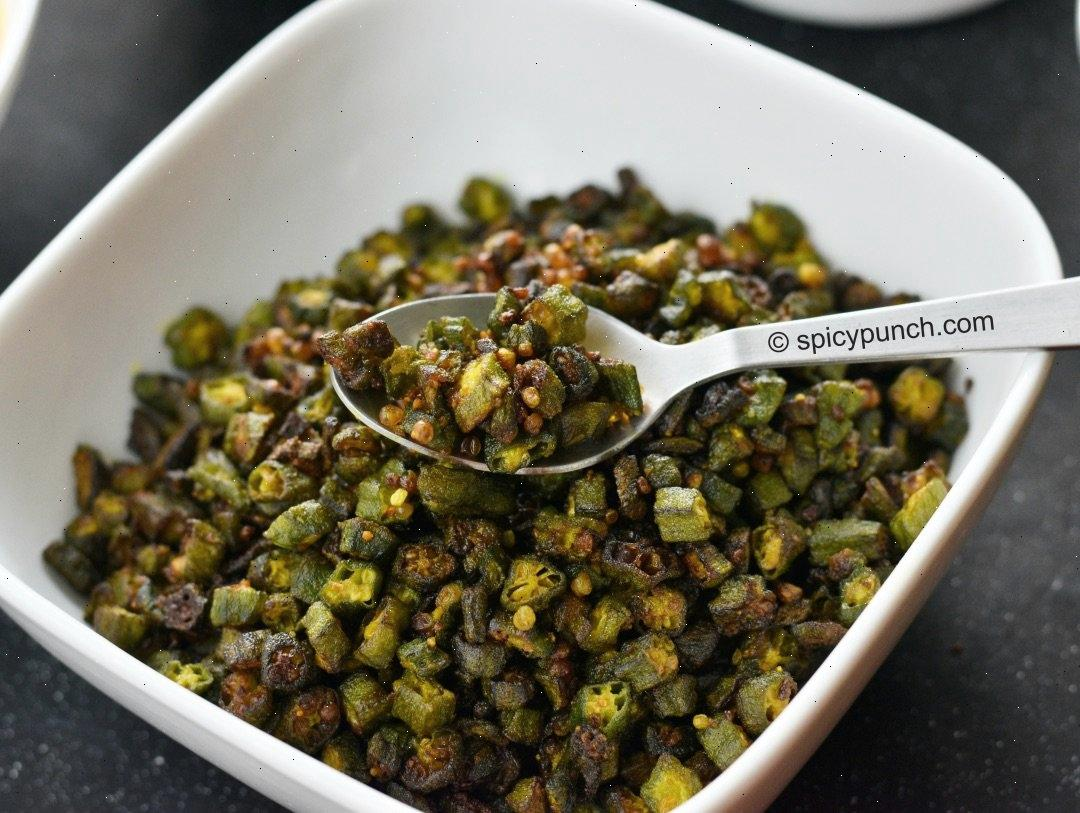bhindi: (101, 197, 871, 808)
